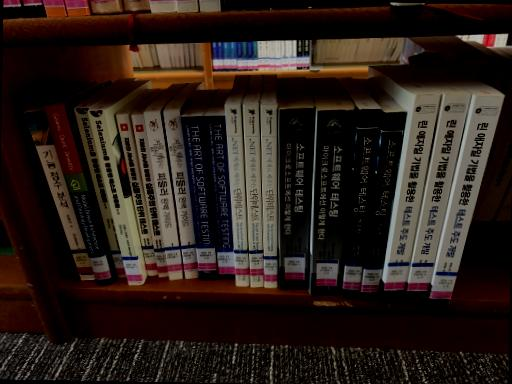book-spine: (429, 96, 505, 304), (405, 95, 471, 303), (42, 105, 113, 285), (24, 111, 96, 281), (383, 95, 441, 301), (88, 110, 144, 285), (73, 107, 127, 278), (361, 112, 407, 299), (310, 110, 354, 295), (115, 114, 159, 277), (343, 110, 381, 298), (143, 111, 184, 280), (279, 109, 314, 290), (180, 116, 218, 280), (130, 115, 168, 277), (163, 110, 198, 279), (202, 116, 234, 280), (225, 104, 249, 286), (243, 104, 263, 288), (261, 104, 278, 288)
